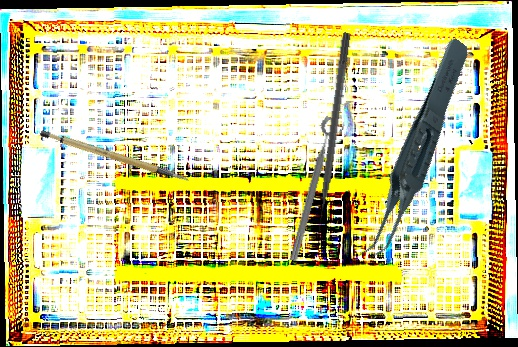Fixation Ring: (285, 115, 347, 265)
Pusher: (312, 31, 352, 234)
Scalpel Handle: (38, 110, 191, 206)
Tissue Forceps: (314, 35, 511, 267)
